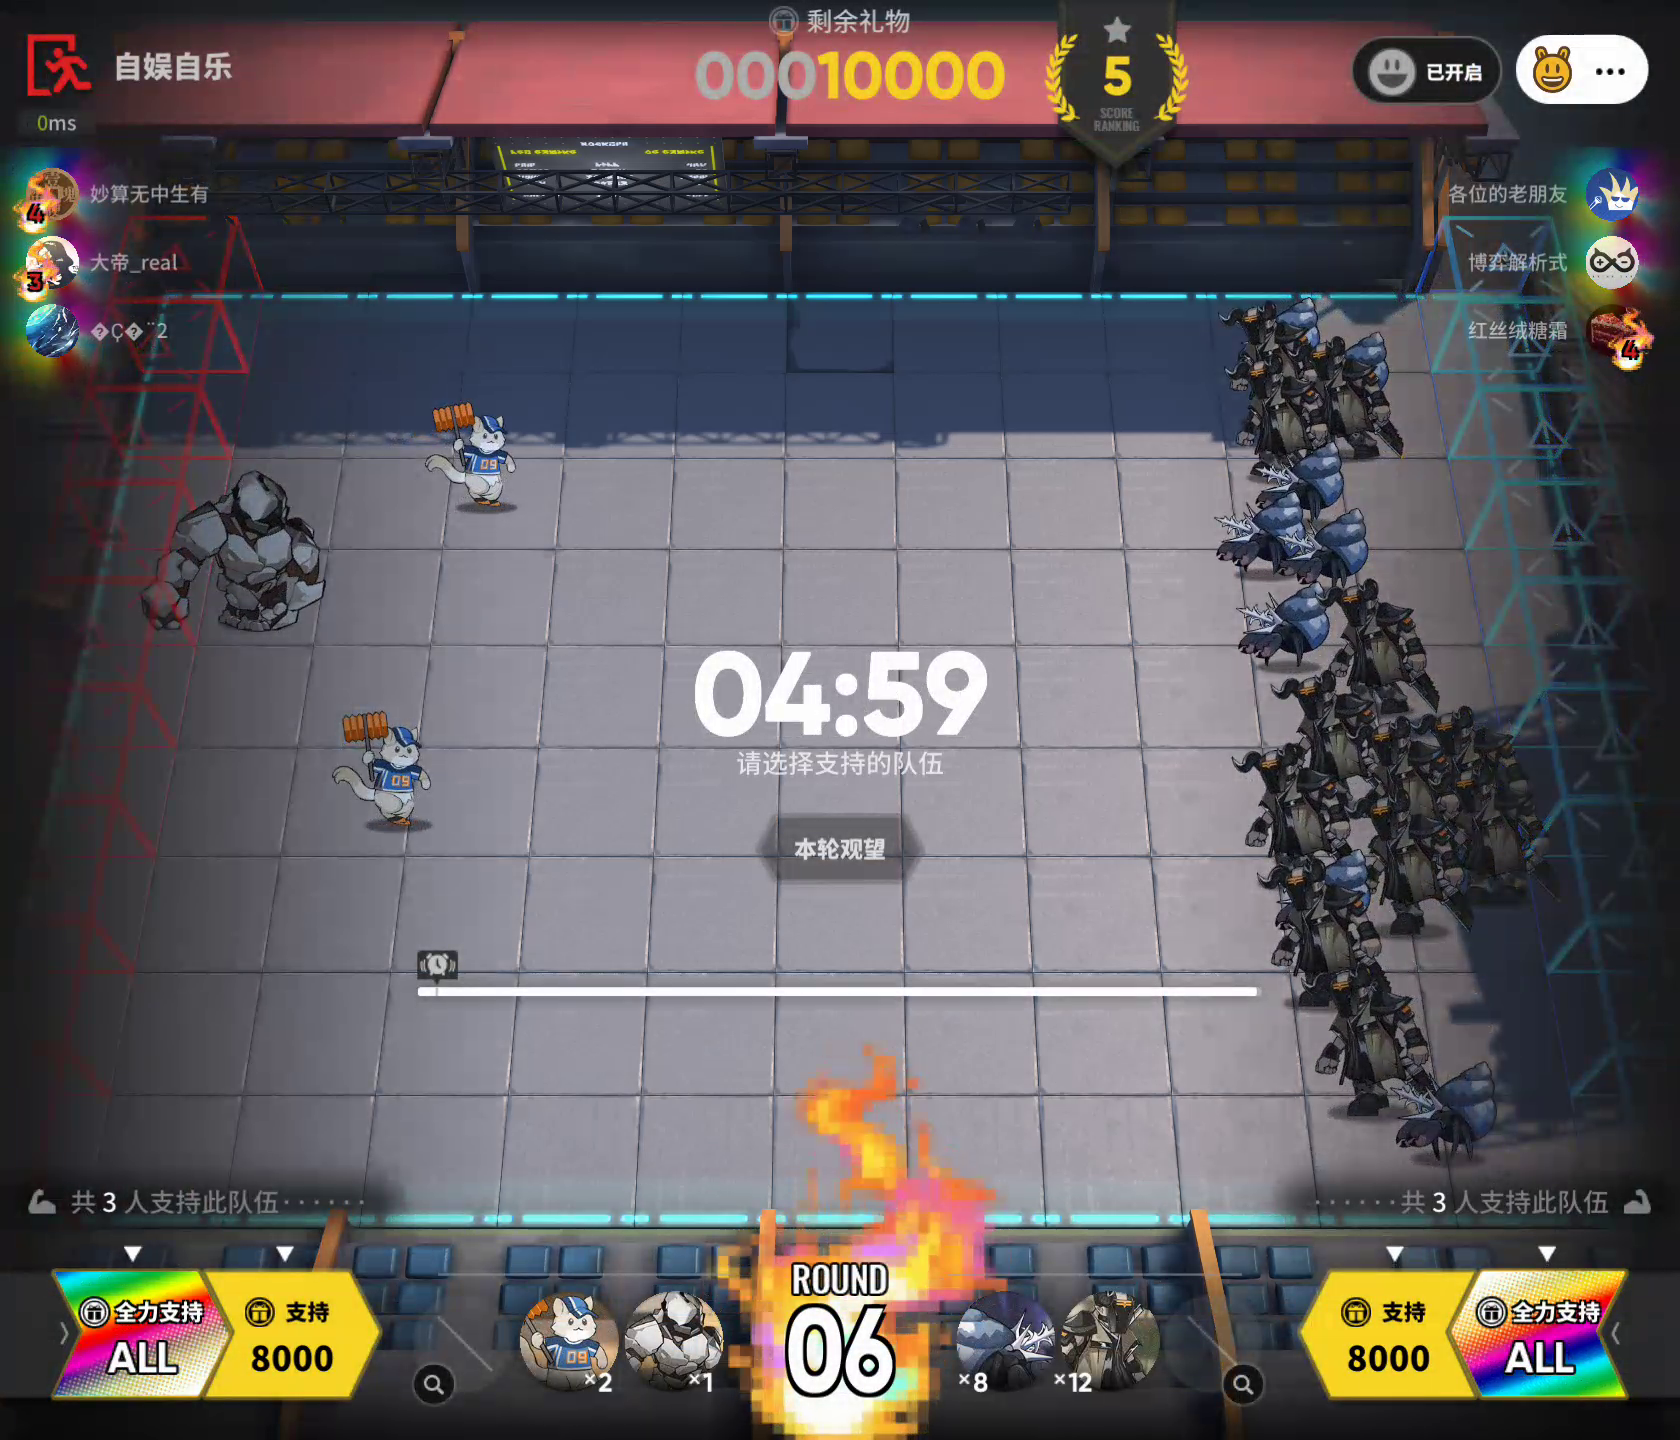大力锤球手: (329, 701, 443, 843), (419, 396, 521, 514), (514, 1284, 621, 1391)
小寄居蟹: (1384, 1046, 1503, 1174), (949, 1289, 1059, 1393), (1227, 576, 1333, 674), (1203, 491, 1304, 581), (1283, 499, 1379, 590), (1250, 439, 1347, 519), (1313, 324, 1391, 414), (1301, 846, 1373, 919), (1266, 291, 1330, 359)
普通的萨卡兹: (1309, 956, 1454, 1130), (1246, 861, 1389, 1009), (1347, 787, 1481, 941), (1221, 740, 1366, 874), (1441, 754, 1567, 906), (1330, 573, 1447, 714), (1221, 353, 1341, 480), (1261, 671, 1391, 786), (1301, 334, 1409, 469), (1059, 1281, 1166, 1399), (1409, 709, 1534, 801), (1337, 721, 1464, 809), (1210, 294, 1320, 380)
砸人的石头: (143, 459, 330, 649), (620, 1284, 737, 1393)
